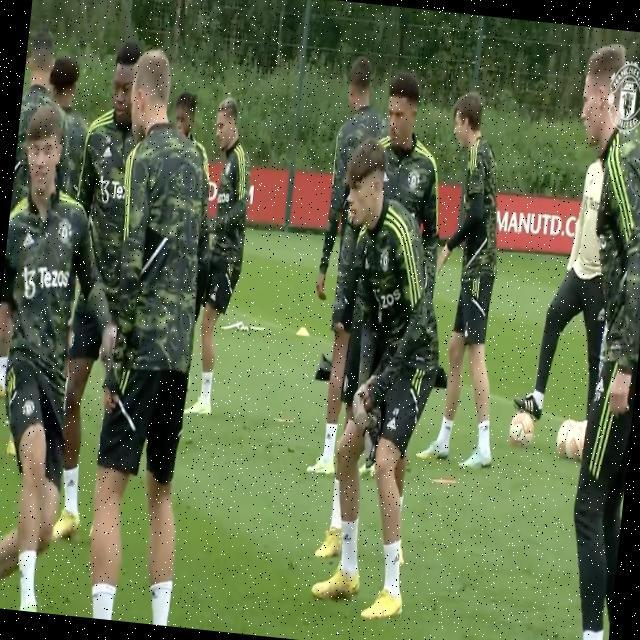Adidas: (21, 229, 35, 250), (392, 549, 403, 568), (595, 376, 607, 393), (386, 416, 398, 431), (67, 476, 77, 491), (342, 530, 352, 544)
